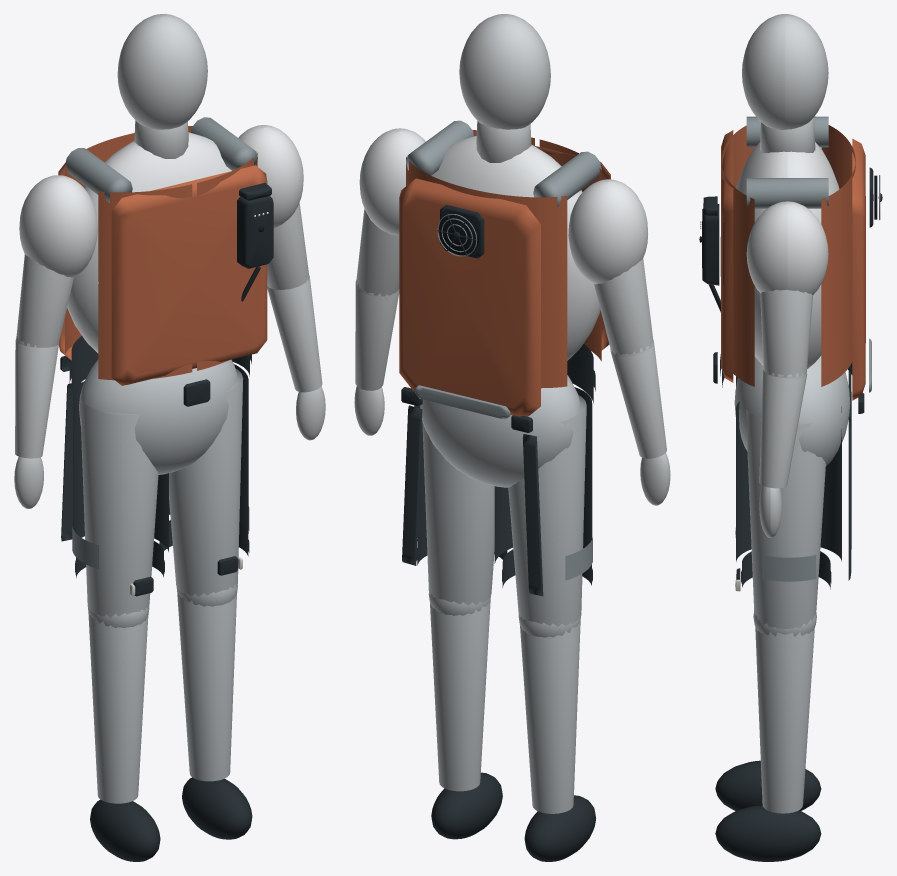
The picture shows the model from 3 angles, left to right: view 1: azimuth 30°, elevation 25°; view 2: azimuth 150°, elevation 25°; view 3: azimuth 270°, elevation 25°; orthographic projection.
Visible parts, largest first — view 1: Continuous front tabard panel, Trouser leg upper (×2), Trouser leg lower (×2), Shirt sleeve (×2), Neutral trousers pelvis, Faceless presentation mannequin, Forearm (×2), Neutral shoe (×2), Neutral shirt torso, Upper arm (×2), Garment front panel (×2), Support shorts (×2) (+10 smaller); view 2: Embedded working-region textile volume, Trouser leg upper (×2), Trouser leg lower (×2), Shirt sleeve (×2), Neutral trousers pelvis, Faceless presentation mannequin, Forearm (×2), Neutral shirt torso, Upper arm (×2), Garment back carrier, Neutral shoe (×2), Passive posterior transmission band (×2) (+11 smaller); view 3: Trouser leg upper, Trouser leg lower, Faceless presentation mannequin, Garment back carrier, Neutral shoe (×2), Shirt sleeve, Neutral trousers pelvis, Garment front panel (×2), Neutral shirt torso, Upper arm, Forearm, Support shorts (+10 smaller).
Boxes of the visible parts, bbox=[...] form: Continuous front tabard panel: bbox=[111, 165, 267, 385]; Trouser leg upper (×2): bbox=[80, 369, 243, 617]; Trouser leg lower (×2): bbox=[88, 591, 236, 803]; Shirt sleeve (×2): bbox=[19, 125, 303, 277]; Neutral trousers pelvis: bbox=[79, 359, 237, 474]; Faceless presentation mannequin: bbox=[117, 14, 207, 129]; Forearm (×2): bbox=[15, 276, 322, 458]; Neutral shoe (×2): bbox=[90, 777, 252, 861]; Neutral shirt torso: bbox=[67, 132, 231, 353]; Upper arm (×2): bbox=[16, 203, 309, 347]; Garment front panel (×2): bbox=[98, 152, 257, 380]; Support shorts (×2): bbox=[73, 364, 248, 551]; Embedded working-region textile volume: bbox=[399, 178, 540, 416]; Trouser leg upper (×2): bbox=[422, 395, 586, 626]; Trouser leg lower (×2): bbox=[430, 600, 580, 813]; Shirt sleeve (×2): bbox=[359, 128, 647, 284]; Neutral trousers pelvis: bbox=[420, 375, 580, 487]; Faceless presentation mannequin: bbox=[459, 14, 550, 129]; Forearm (×2): bbox=[355, 280, 666, 458]; Neutral shirt torso: bbox=[431, 136, 600, 360]; Upper arm (×2): bbox=[356, 209, 653, 354]; Garment back carrier: bbox=[406, 157, 567, 388]; Neutral shoe (×2): bbox=[431, 772, 595, 861]; Passive posterior transmission band (×2): bbox=[402, 405, 543, 596]; Trouser leg upper: bbox=[746, 410, 825, 628]; Trouser leg lower: bbox=[755, 627, 814, 813]; Faceless presentation mannequin: bbox=[742, 14, 828, 129]; Garment back carrier: bbox=[821, 125, 855, 386]; Neutral shoe (×2): bbox=[715, 760, 821, 861]; Shirt sleeve: bbox=[746, 201, 828, 294]; Neutral trousers pelvis: bbox=[734, 356, 850, 465]; Garment front panel (×2): bbox=[721, 125, 754, 386]; Neutral shirt torso: bbox=[736, 142, 839, 368]; Upper arm: bbox=[760, 289, 813, 377]; Forearm: bbox=[759, 370, 807, 488]; Support shorts: bbox=[736, 401, 841, 561].
Bounding box in the file's own units: 0.74 × 1.88 × 0.38.
